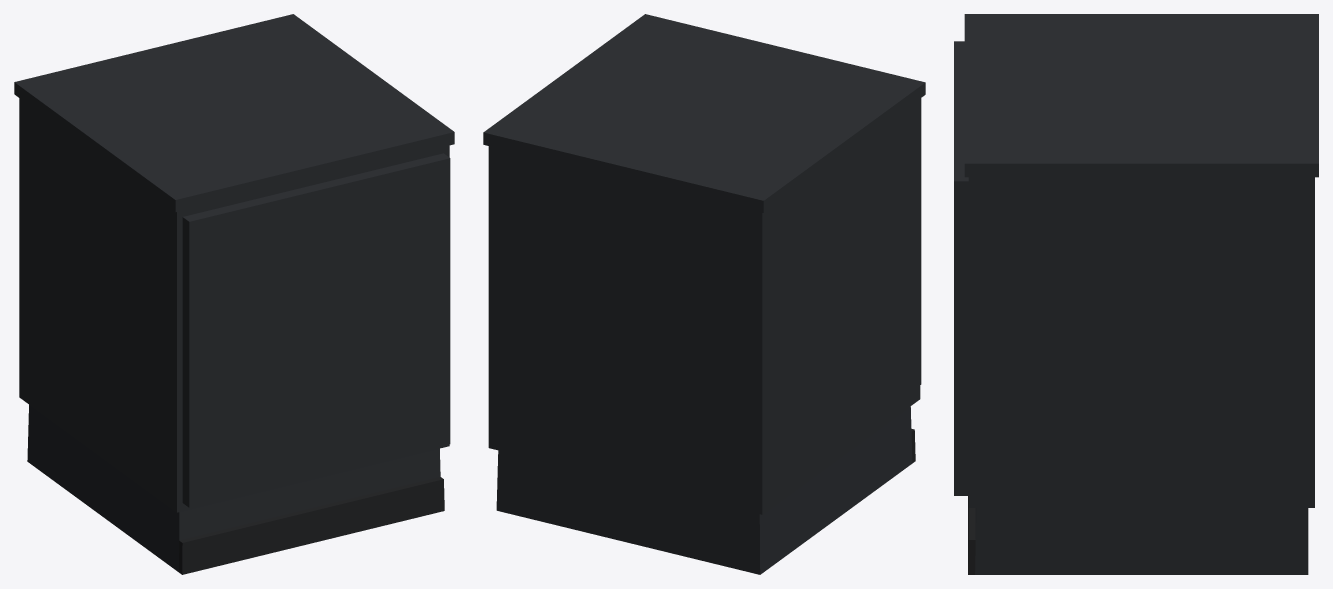
Rendered from Dishwasher_01_E.gltf.
3 views of the same model, side by side, from view 1: azimuth 30°, elevation 25°; view 2: azimuth 150°, elevation 25°; view 3: azimuth 270°, elevation 25° (orthographic). The views are drawn at different scales.
Parts seen in each view (by area): view 1: Dishwasher_01_E, DoorDishwasher_01_E; view 2: Dishwasher_01_E, DoorDishwasher_01_E; view 3: Dishwasher_01_E, DoorDishwasher_01_E.
Part boxes in pixels (x1,y1,x2,y2): Dishwasher_01_E: (14,14,454,574); DoorDishwasher_01_E: (182,153,450,507); Dishwasher_01_E: (483,14,925,574); DoorDishwasher_01_E: (920,98,921,384); Dishwasher_01_E: (964,14,1318,574); DoorDishwasher_01_E: (954,41,968,495).
Size of the model in its own units: 1.02 by 1.32 by 1.05.
1 material, 1 textured.
